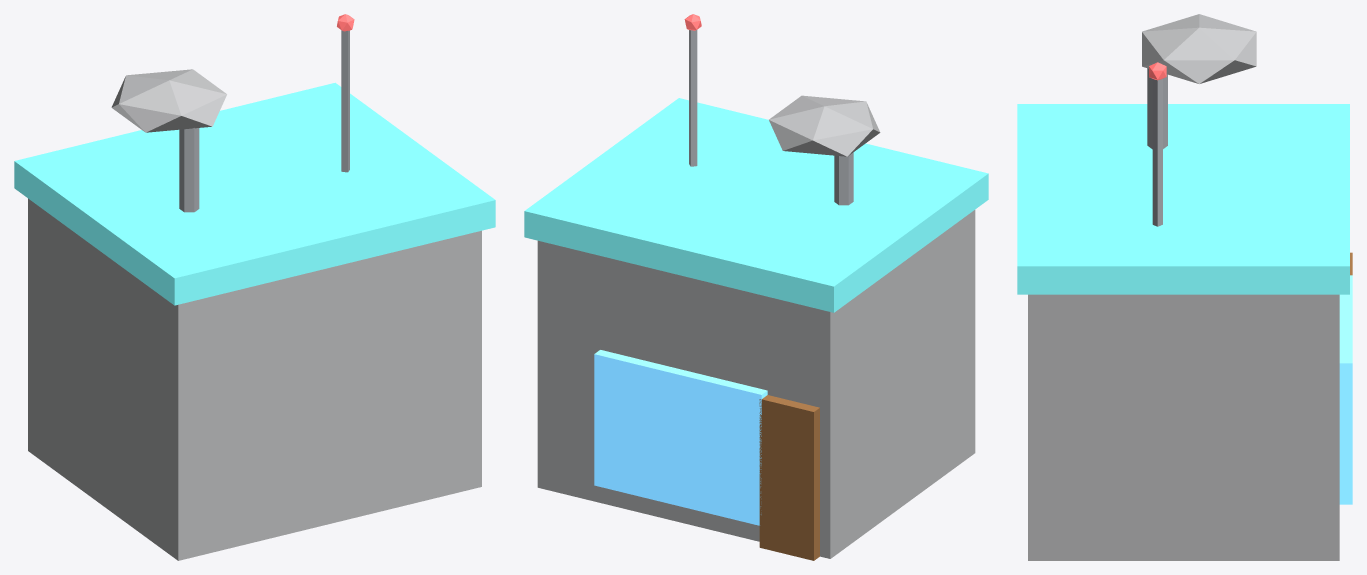
Rendered from research_lab.glb.
3 views of the same model, side by side, from view 1: azimuth 30°, elevation 25°; view 2: azimuth 150°, elevation 25°; view 3: azimuth 270°, elevation 25° (orthographic). The views are drawn at different scales.
Parts seen in each view (by area): view 1: research_lab; view 2: research_lab; view 3: research_lab.
Boxes of the visible parts, x1=… form: research_lab: x1=14, y1=14, x2=495, y2=560; research_lab: x1=524, y1=14, x2=988, y2=560; research_lab: x1=1017, y1=14, x2=1352, y2=560.
Size of the model in its own units: 0.74 by 0.98 by 0.645.
